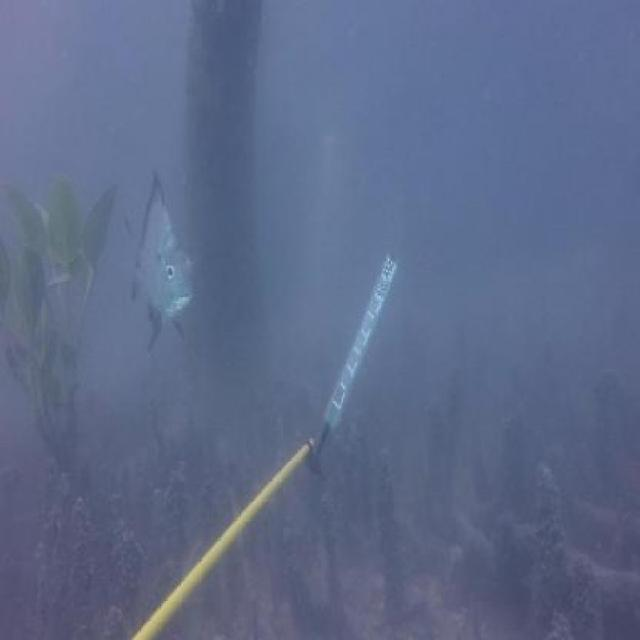acanthopagrus_palmaris: (129, 166, 196, 360)
